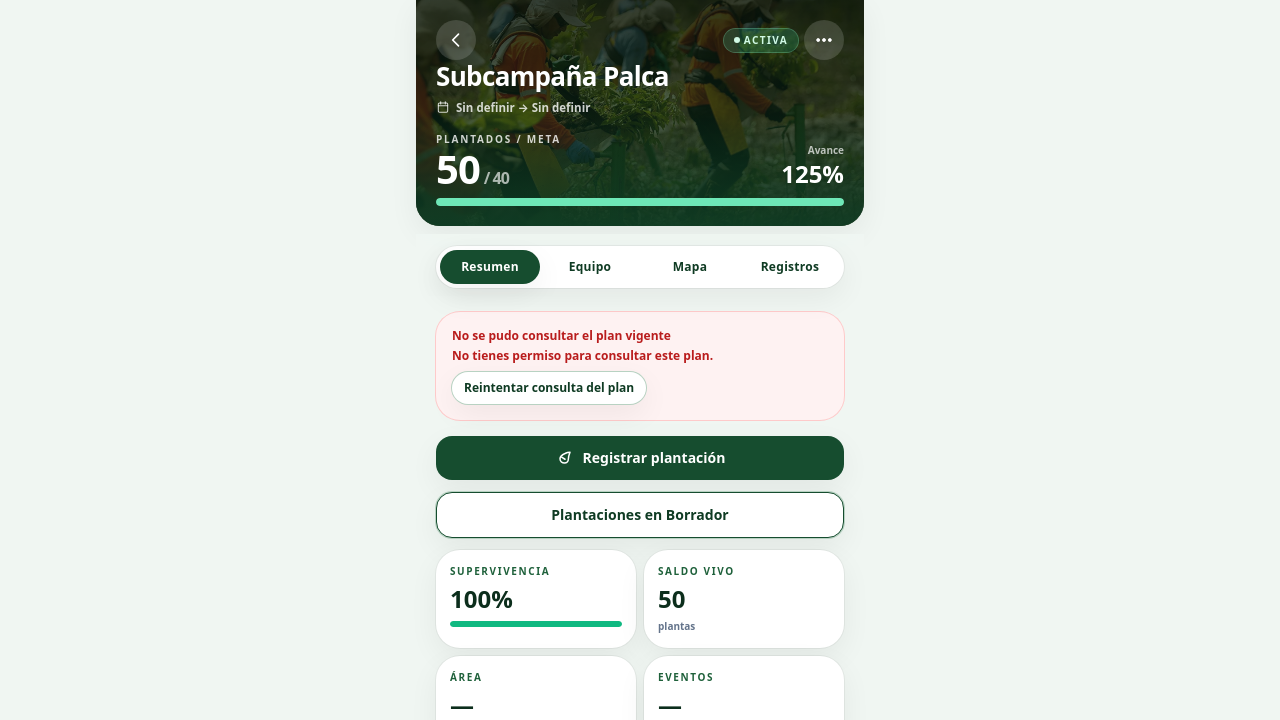
Test: revisión del plan desde el detalle de subcampaña › muestra el error 403 y bloquea edición sin cerrar la sesión
Expected: the text "No tienes permiso para consultar este plan." is shown, [452,347,713,364]
Click the button named "Más opciones" at (824,40), box [804,20,844,60]
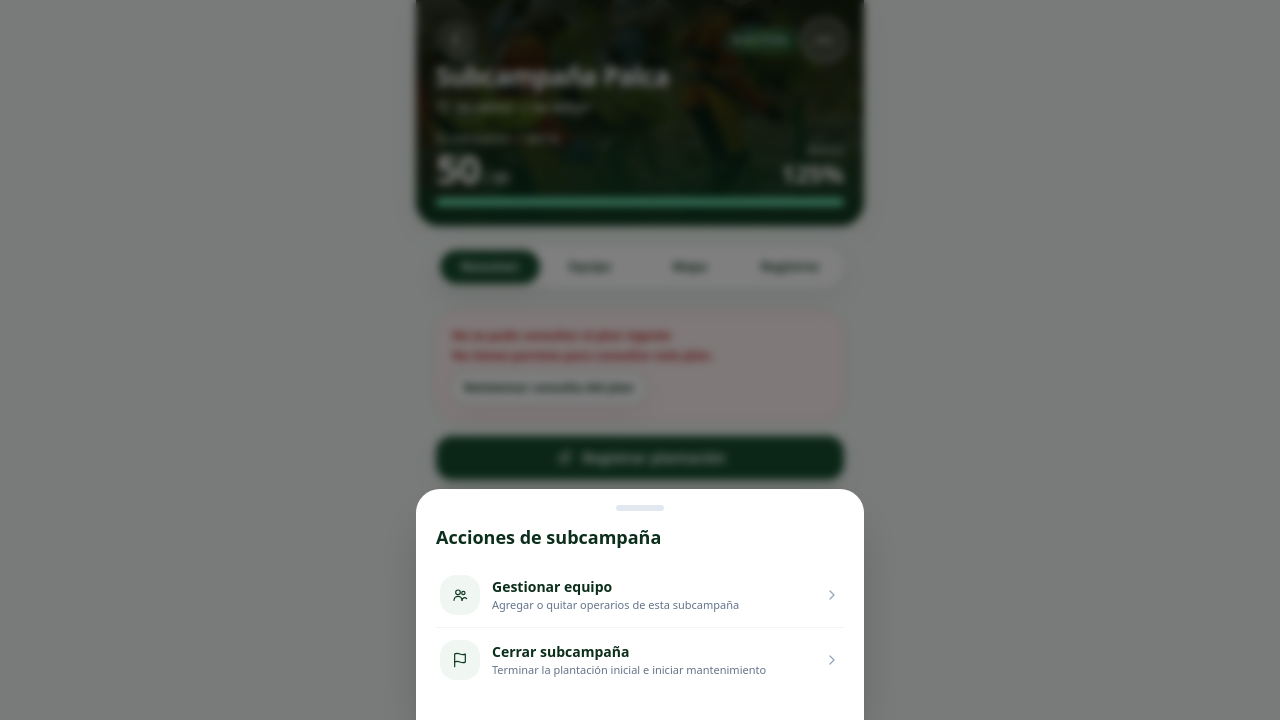
Click the button named "Cerrar" at (640,244), box [0,0,1279,489]
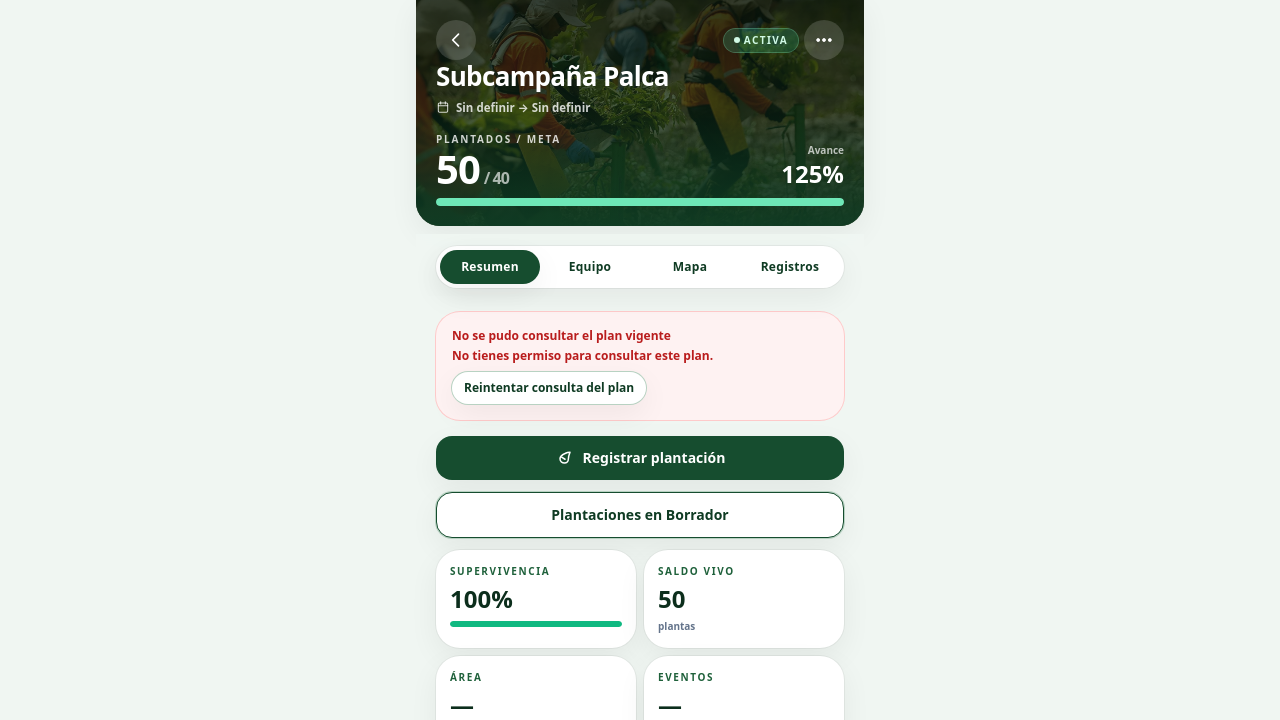
Click the button "Reintentar consulta del plan" at (549,388), box [452,372,646,404]
(page scrolled)
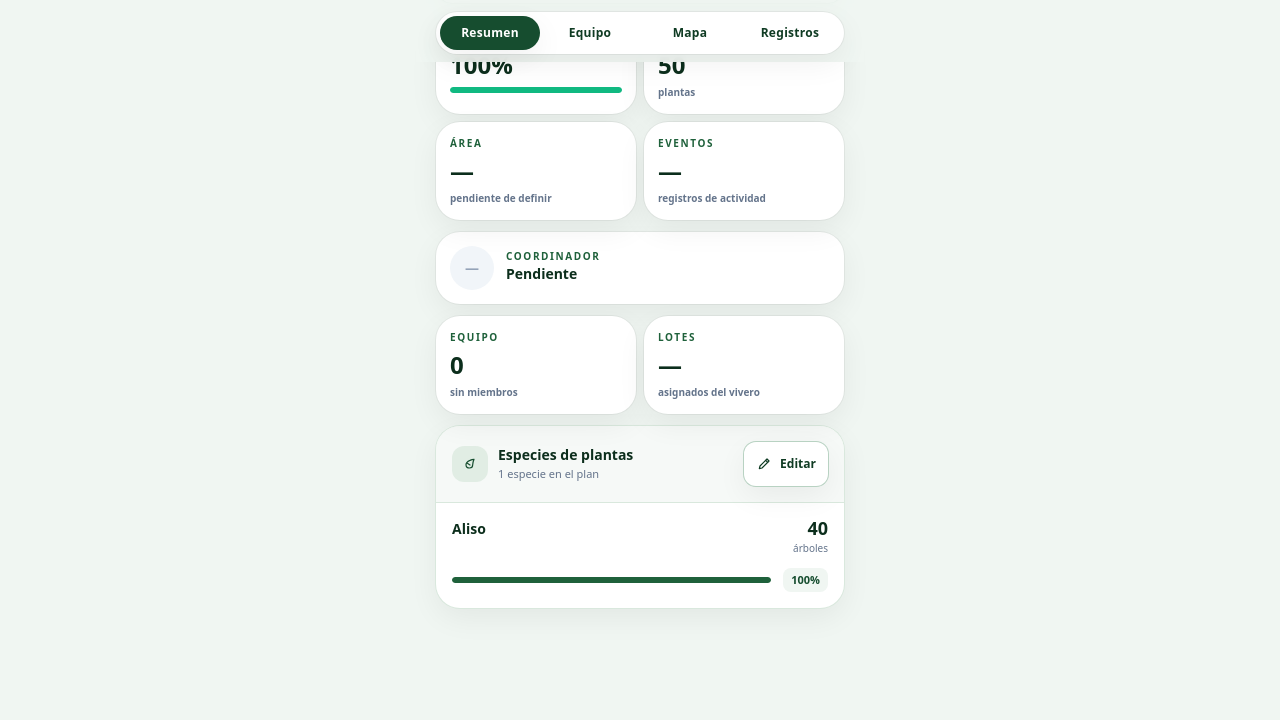
Now the heading "Especies de plantas" is shown, box [498,445,633,464]
